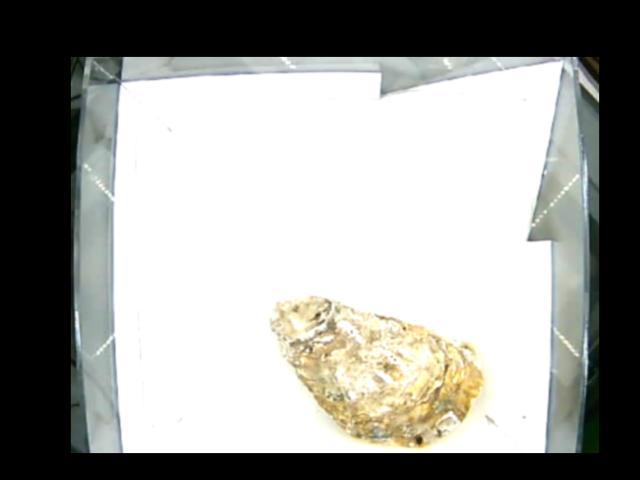Shell: (266, 292, 481, 444)
